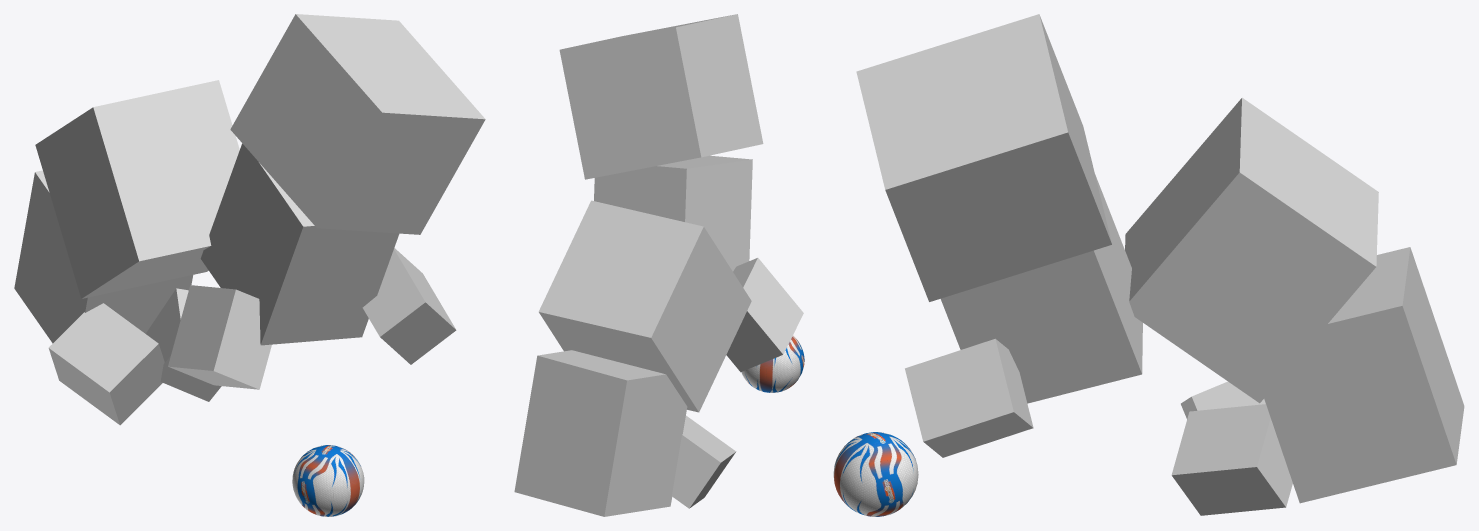
Rendered from DummyPlayer.glb.
The picture shows the model from 3 angles, left to right: view 1: azimuth 30°, elevation 25°; view 2: azimuth 150°, elevation 25°; view 3: azimuth 270°, elevation 25°; orthographic projection. The views are drawn at different scales.
Parts seen in each view (by area): view 1: col_hair (×2), col_body_head (×2), col_hand_right (×2), col_hand_left (×2), DummyBall3; view 2: col_hair (×2), col_body_head (×2), col_hand_right (×2), DummyBall3; view 3: col_hair (×2), col_body_head (×2), col_hand_left (×2), DummyBall3, col_hand_right.
Boxes of the visible parts, x1,y1,x2,y2 form: col_hair (×2): (35, 14, 485, 298); col_body_head (×2): (14, 143, 399, 345); col_hand_right (×2): (48, 285, 271, 425); col_hand_left (×2): (146, 248, 456, 401); DummyBall3: (292, 445, 364, 516); col_hair (×2): (538, 14, 763, 412); col_body_head (×2): (514, 155, 752, 516); col_hand_right (×2): (672, 258, 803, 508); DummyBall3: (741, 336, 804, 392); col_hair (×2): (856, 14, 1378, 403); col_body_head (×2): (941, 174, 1464, 503); col_hand_left (×2): (905, 338, 1292, 515); DummyBall3: (833, 432, 918, 516); col_hand_right: (1181, 381, 1265, 419).
Size of the model in its own units: 1.48 by 2.27 by 2.5.
2 materials, 1 textured.
